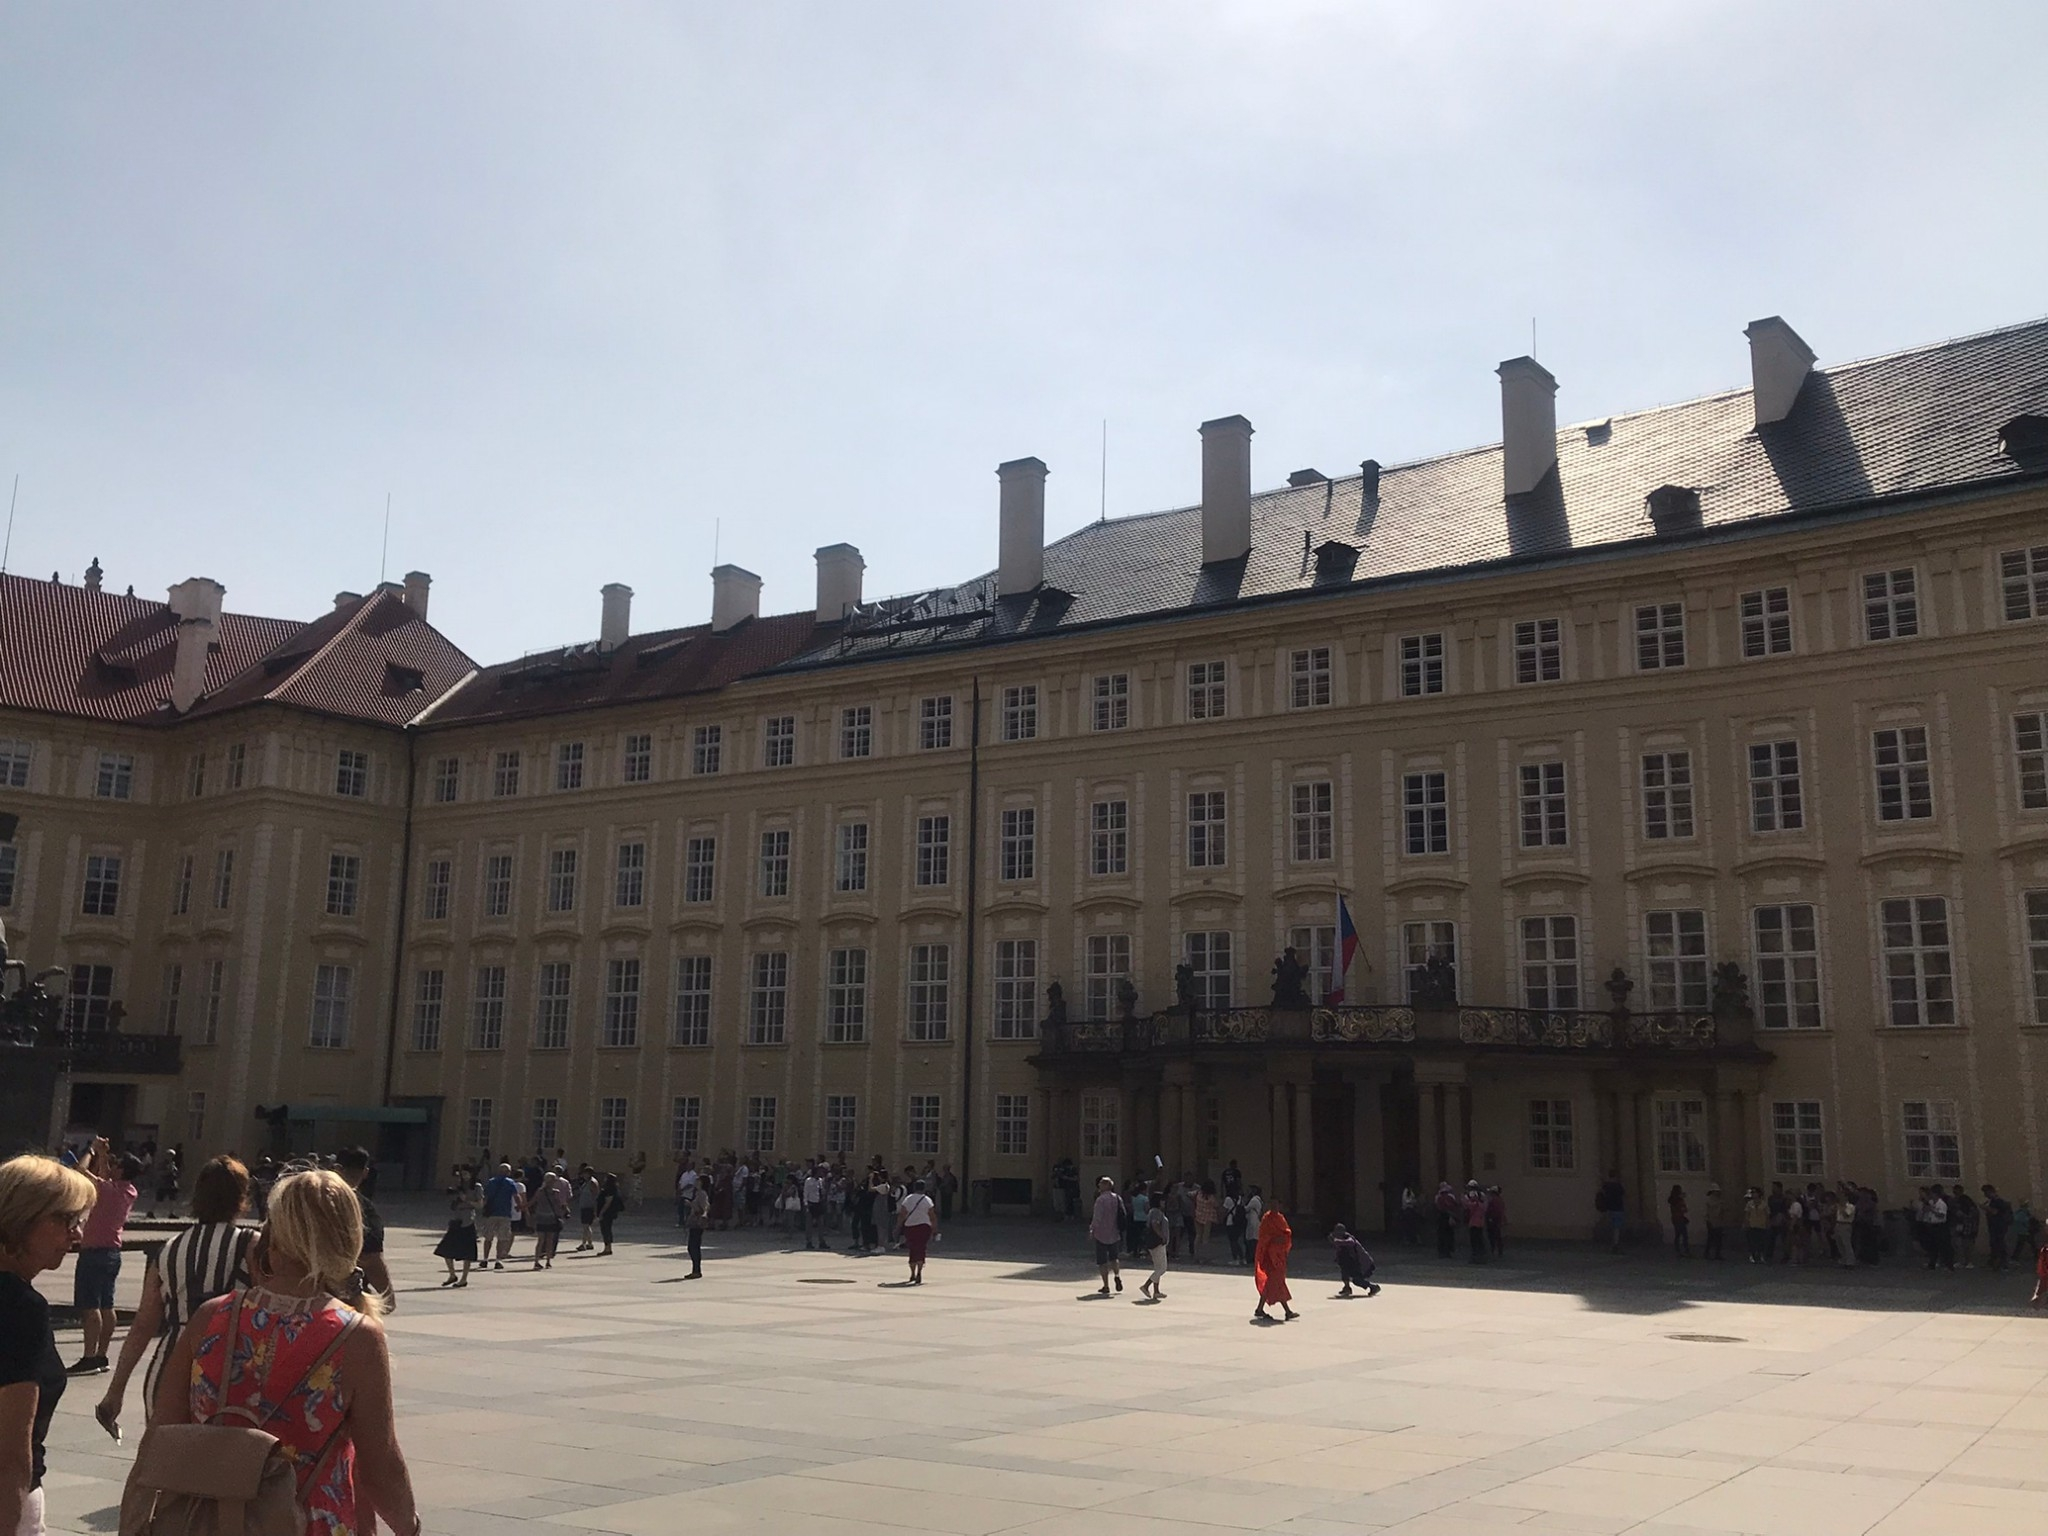people: (193, 1175, 399, 1536), (2, 1146, 78, 1536), (143, 1140, 257, 1372), (78, 1131, 128, 1399), (1078, 1172, 1134, 1299), (1252, 1199, 1302, 1334), (893, 1172, 937, 1308), (478, 1163, 525, 1266), (672, 1172, 710, 1293), (537, 1163, 560, 1284)
